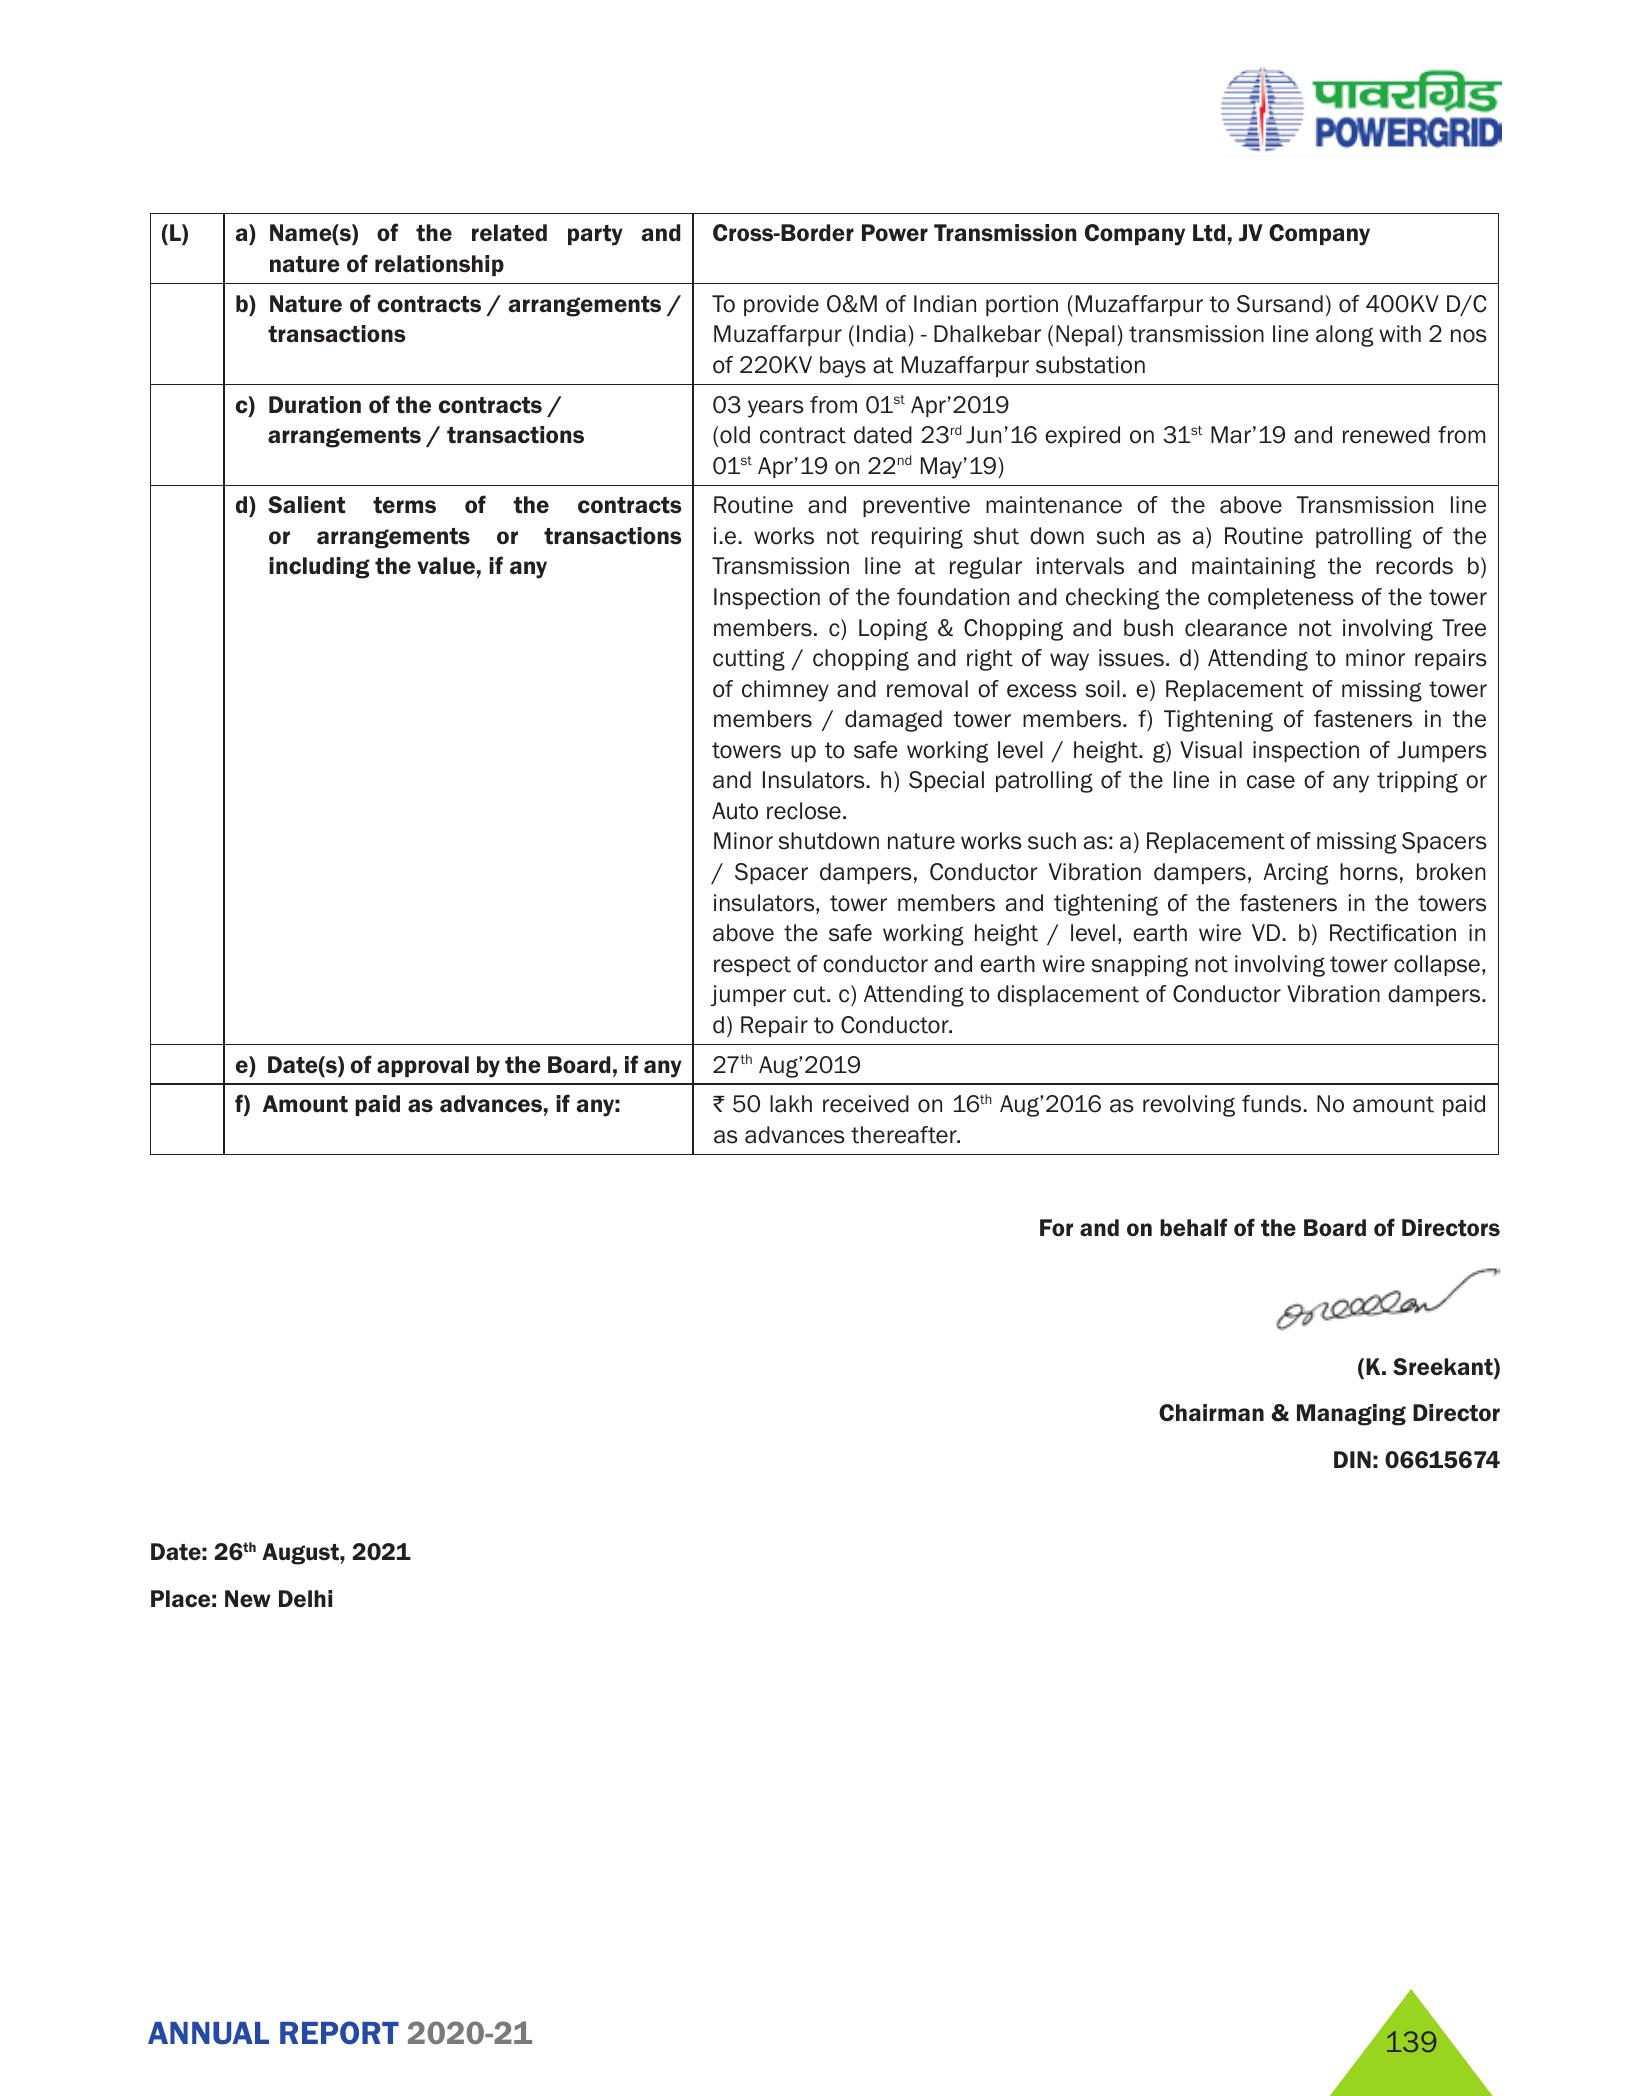Footer: (0, 1968, 1650, 2096)
Header: (0, 0, 1650, 168)
Table: (99, 172, 1524, 1164)
